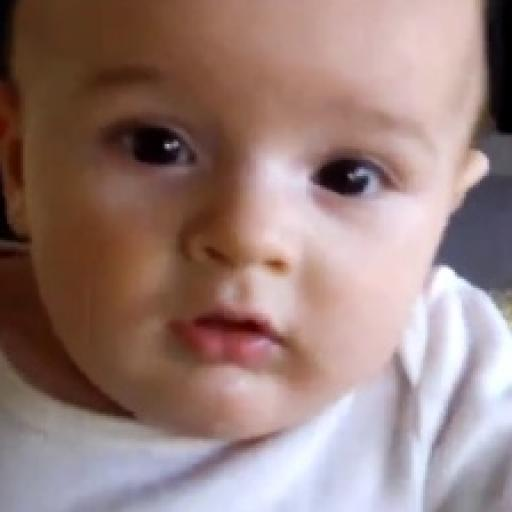Autism: (49, 23, 505, 460)
